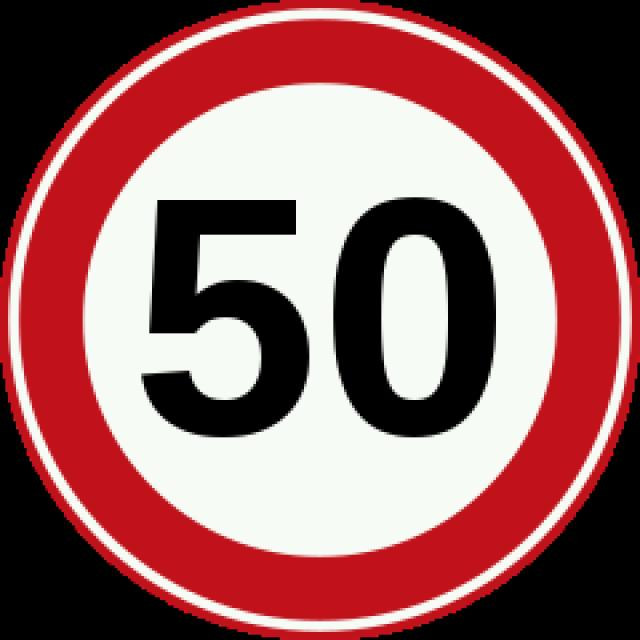Speed Limit: (108, 140, 528, 478)
